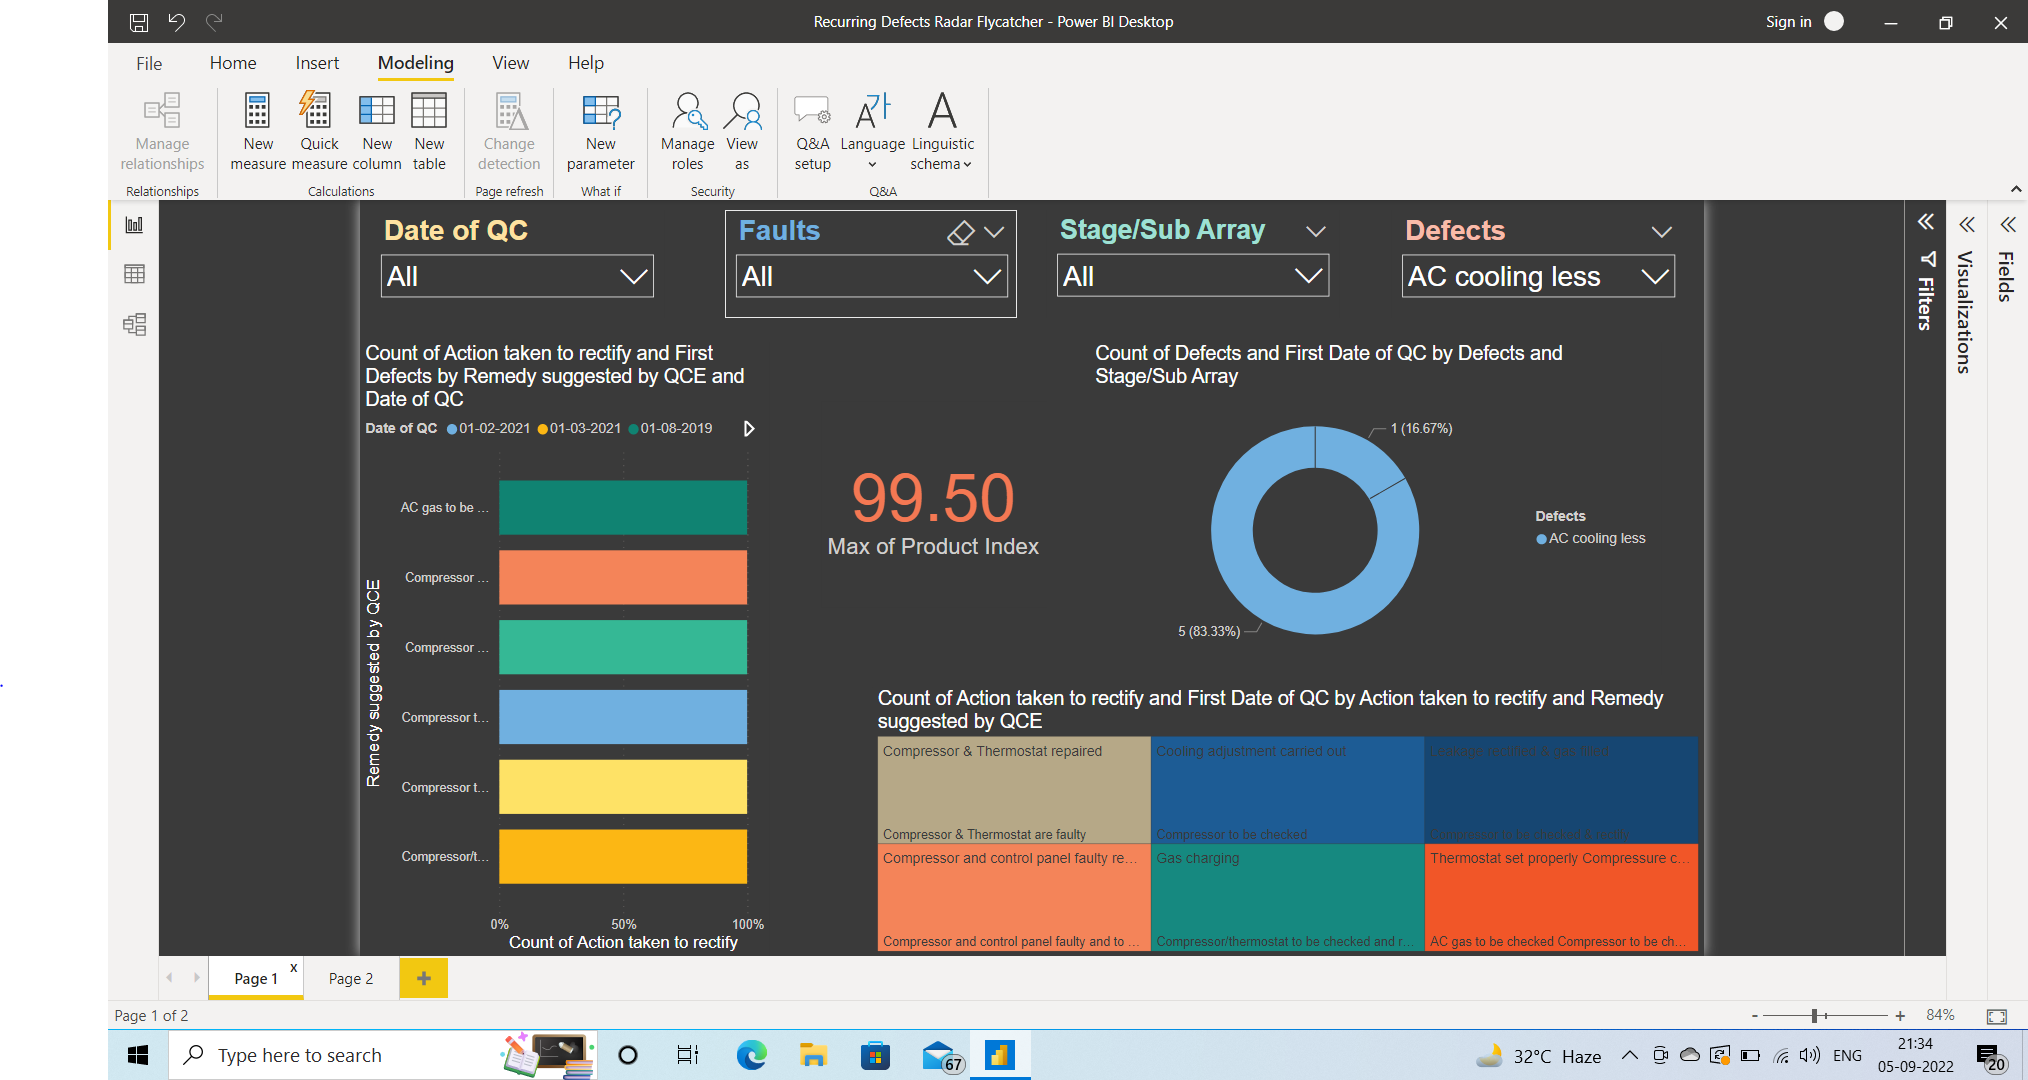

Layout of this report page (visuals, bound fields, positions):
{"tool":"powerbi","page":{"name":"Page 1","canvas":[1280,720],"ordinal":0},"visuals":[{"type":"slicer","fields":{"Values":["Sheet1.Date of QC"]},"box":[9.9,9.9,280.6,102],"z":0},{"type":"slicer","fields":{"Values":["Sheet1.Defects"]},"box":[982.2,9.9,280.6,102],"z":1000},{"type":"slicer","fields":{"Values":["Sheet1.Stage/Sub Array"]},"box":[653.4,9.9,279.2,102],"z":2000},{"type":"slicer","fields":{"Values":["Sheet1.Faults"]},"box":[347.2,9.9,279.2,102],"z":3000},{"type":"donutChart","fields":{"Category":["Sheet1.Defects"],"Y":["CountNonNull(Sheet1.Defects)"],"Series":["Sheet1.Stage/Sub Array"]},"box":[695.6,135.3,544.1,316.2],"z":4000},{"type":"hundredPercentStackedBarChart","fields":{"Category":["Sheet1.Remedy suggested by QCE"],"Y":["CountNonNull(Sheet1.Action taken to rectify)"],"Series":["Sheet1.Date of QC"]},"box":[0,135.3,389.7,585.3],"z":5000},{"type":"treemap","fields":{"Group":["Sheet1.Action taken to rectify","Sheet1.Stage/Sub Array"],"Details":["Sheet1.Remedy suggested by QCE"],"Values":["CountNonNull(Sheet1.Action taken to rectify)"]},"box":[488.2,464.7,791.2,255.9],"z":6000},{"type":"card","fields":{"Values":["Max(Sheet1.Product Index)"]},"box":[439.4,191.3,214,197],"z":7000}]}

Visuals, with their boxes on the page's 1280x720 design canvas (x1, y1, x2, y2). These are canvas units, not pixel positions in the 2028x1080 screenshot, which may show the page scaled, cropped or inside an application window:
slicer - Sheet1.Date of QC: (left=10, top=10, right=290, bottom=112)
slicer - Sheet1.Defects: (left=982, top=10, right=1263, bottom=112)
slicer - Sheet1.Stage/Sub Array: (left=653, top=10, right=933, bottom=112)
slicer - Sheet1.Faults: (left=347, top=10, right=626, bottom=112)
donutChart - Sheet1.Defects x CountNonNull(Sheet1.Defects): (left=696, top=135, right=1240, bottom=452)
hundredPercentStackedBarChart - Sheet1.Remedy suggested by QCE x CountNonNull(Sheet1.Action taken to rectify): (left=0, top=135, right=390, bottom=721)
treemap - Sheet1.Action taken to rectify x Sheet1.Stage/Sub Array: (left=488, top=465, right=1279, bottom=721)
card - Max(Sheet1.Product Index): (left=439, top=191, right=653, bottom=388)
